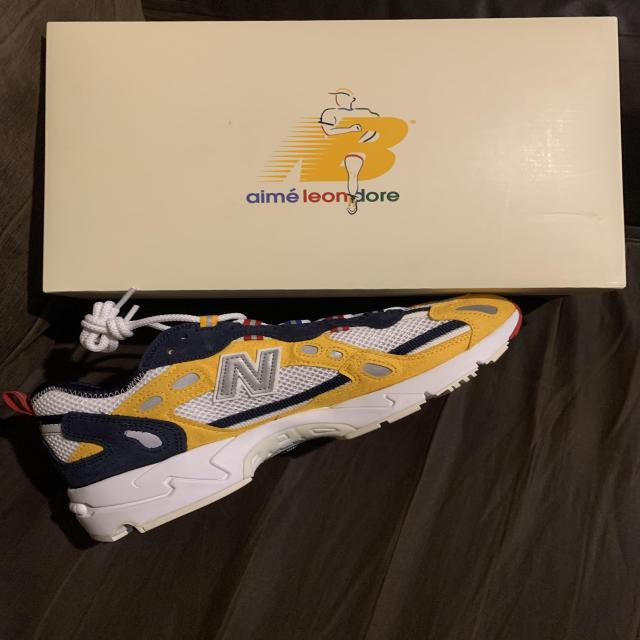shoe: (5, 290, 529, 554)
